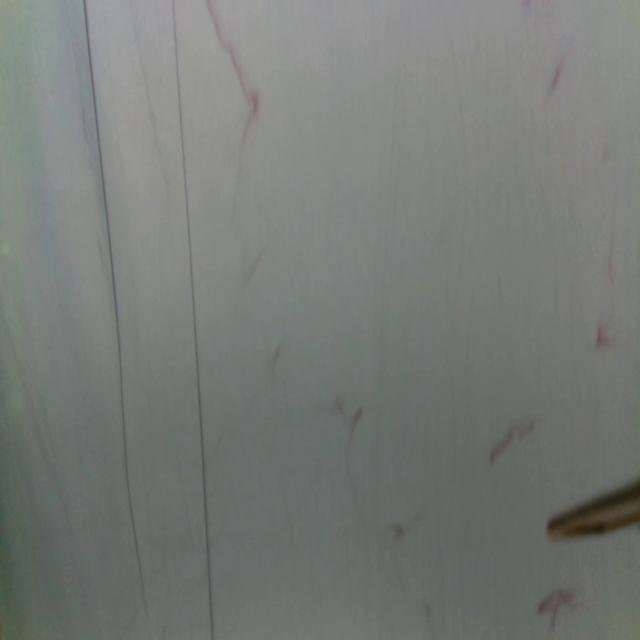crease: (81, 0, 147, 616), (172, 0, 215, 640)
